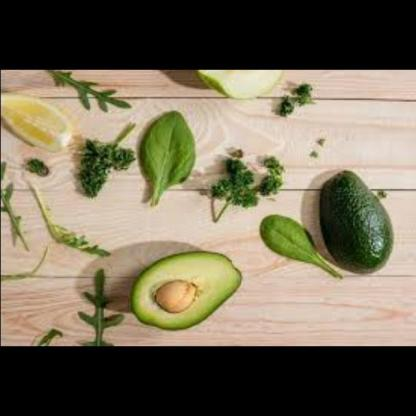avocado: (301, 136, 411, 284), (110, 244, 268, 346)
